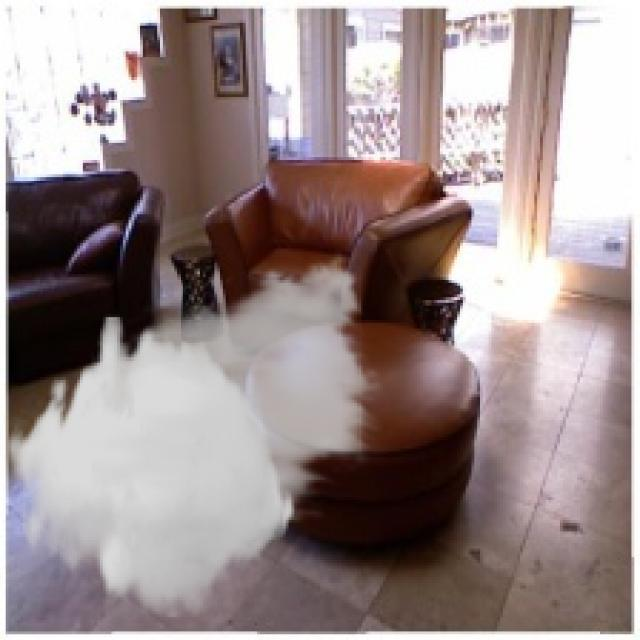Smoke: (6, 245, 383, 618)
